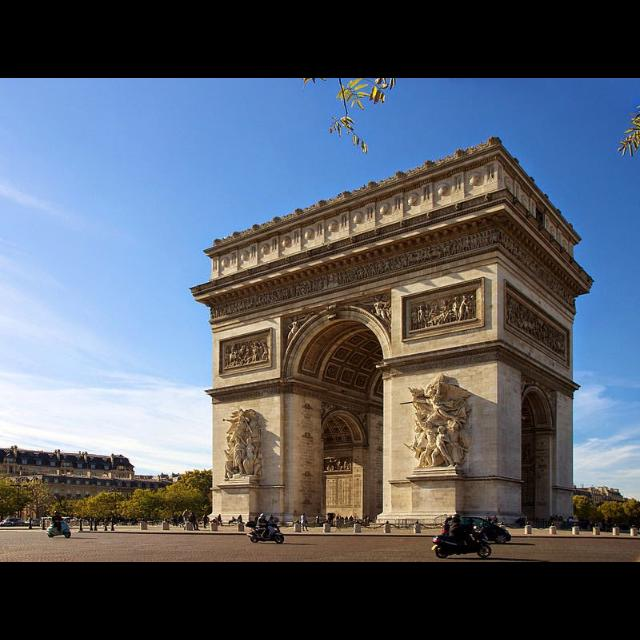head: (454, 516, 462, 524), (260, 514, 266, 520), (270, 517, 276, 523), (56, 512, 60, 516), (192, 512, 195, 516), (192, 514, 195, 518), (240, 514, 242, 518), (304, 514, 306, 518), (187, 511, 189, 514), (220, 515, 222, 517)
person: (441, 514, 464, 548), (266, 515, 282, 541), (256, 512, 270, 540), (51, 510, 65, 534), (187, 512, 199, 532), (191, 512, 201, 532), (300, 512, 310, 532), (182, 508, 190, 530), (217, 513, 225, 527), (236, 514, 244, 526)
